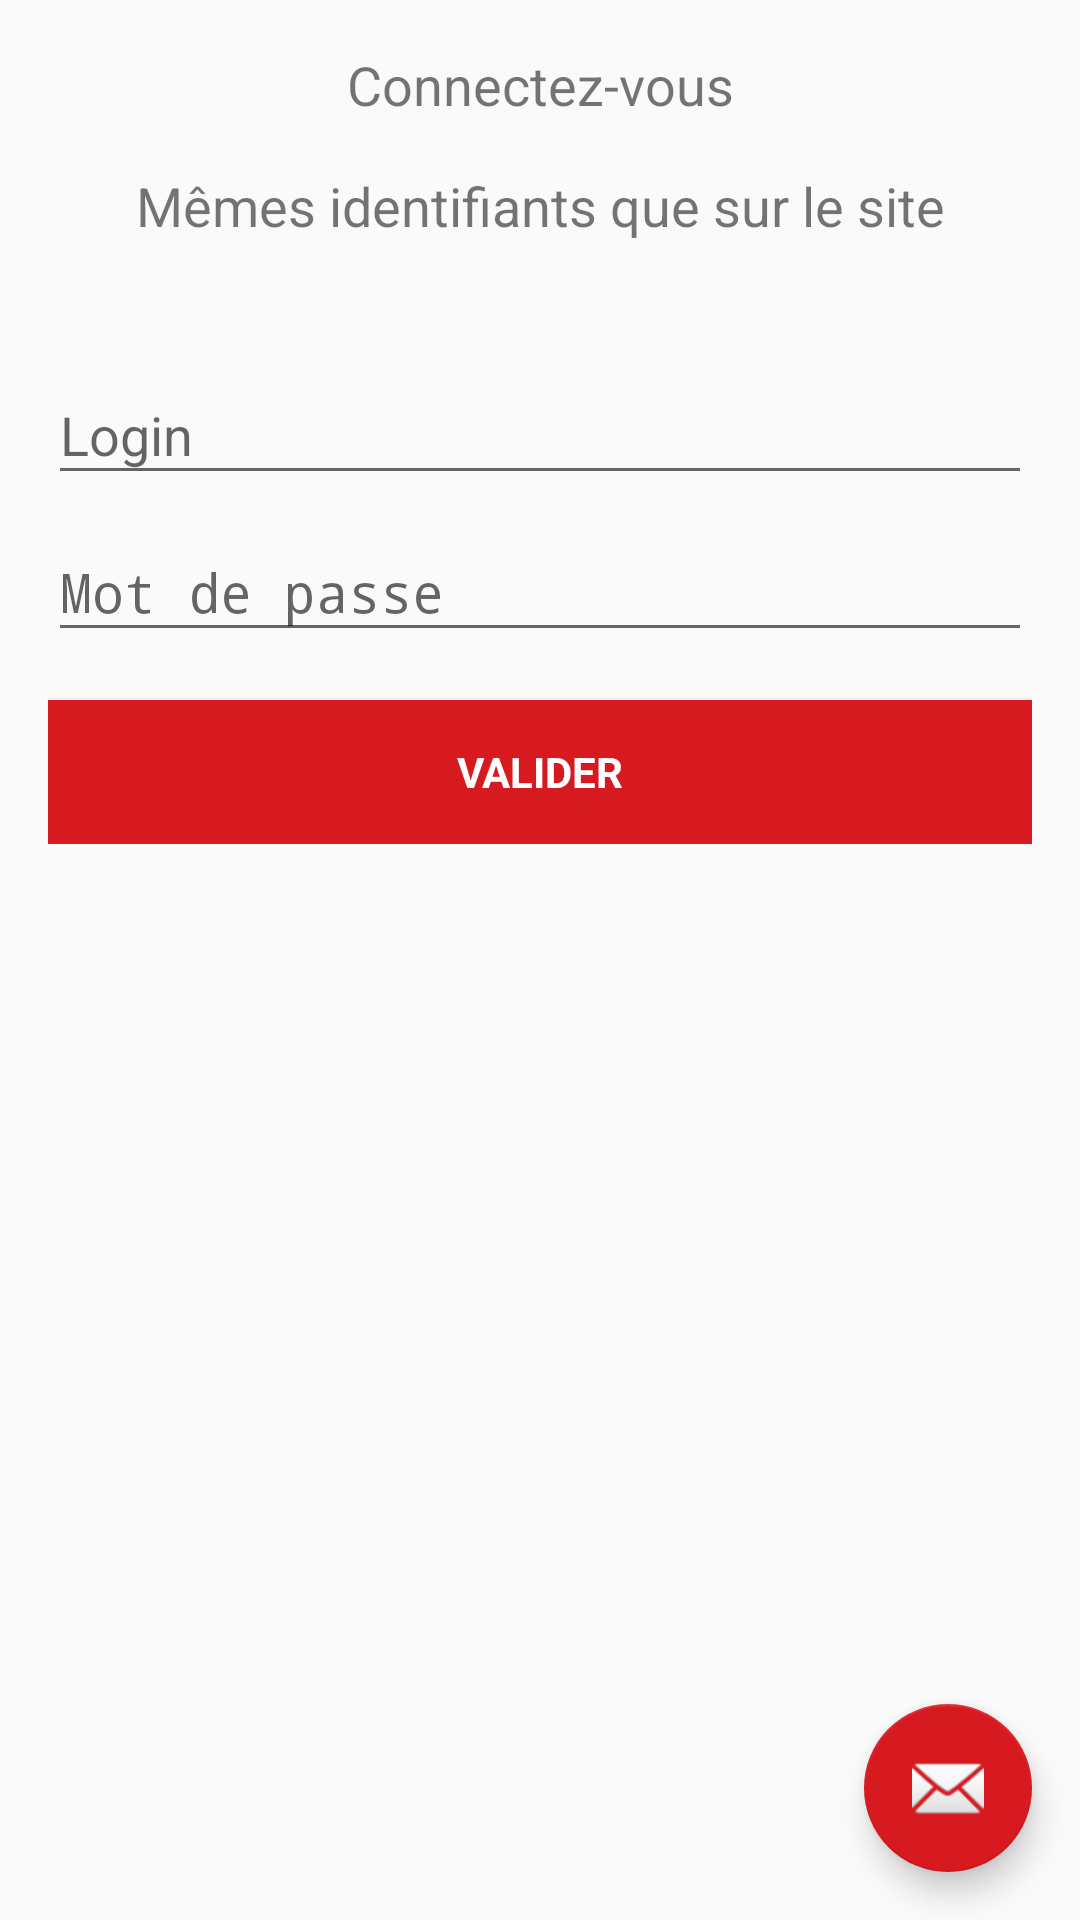

Named icons in this screenshot (1080×1920) and their bounding boxes, {"x1": x1, "y1": y1, "x2": x2, "y2": y2}:
email: {"x1": 864, "y1": 1704, "x2": 1032, "y2": 1872}
